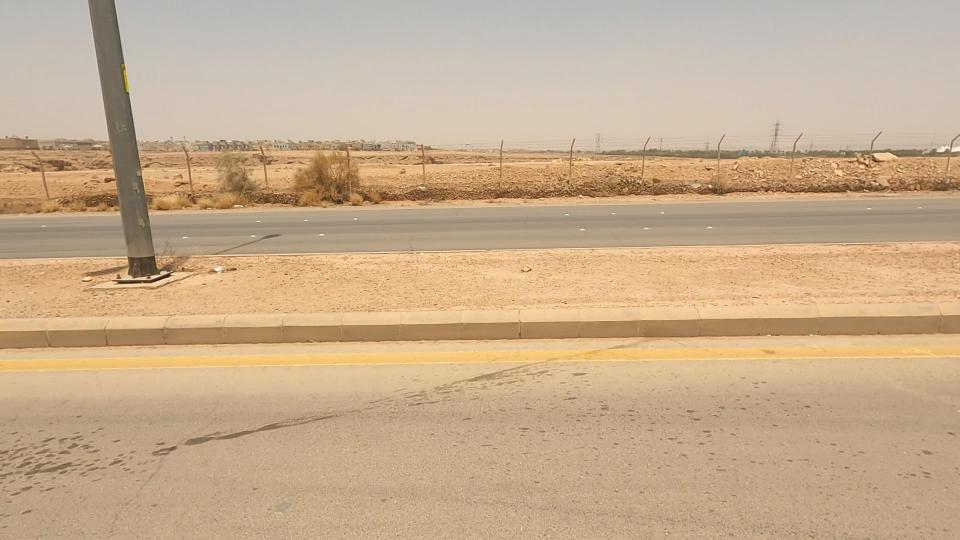CLUTTER_SIDEWALK: (118, 203, 687, 370), (464, 187, 960, 354)
GARBAGE: (664, 161, 732, 204), (195, 248, 243, 293), (501, 253, 553, 289), (401, 168, 438, 202)
